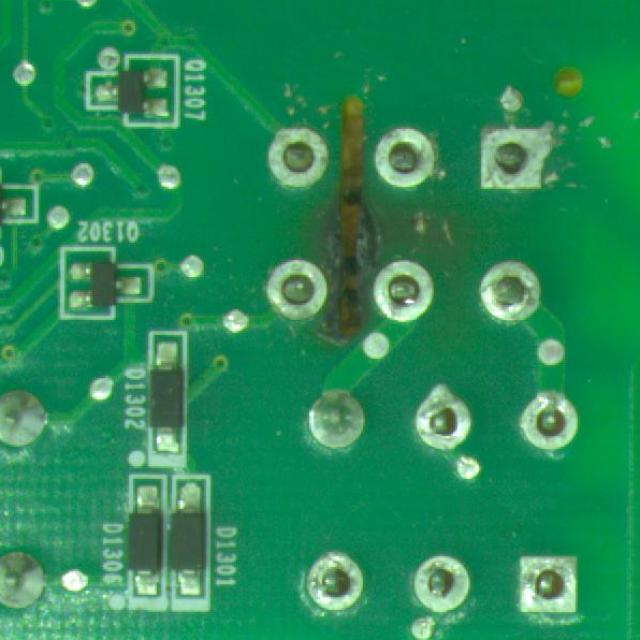Insufficient solder: (470, 112, 560, 198), (398, 548, 484, 620), (507, 548, 585, 622), (475, 256, 551, 328), (369, 254, 442, 326), (302, 550, 372, 622), (410, 382, 478, 456), (372, 128, 442, 198), (516, 388, 584, 454), (268, 119, 332, 187), (266, 256, 326, 326)
